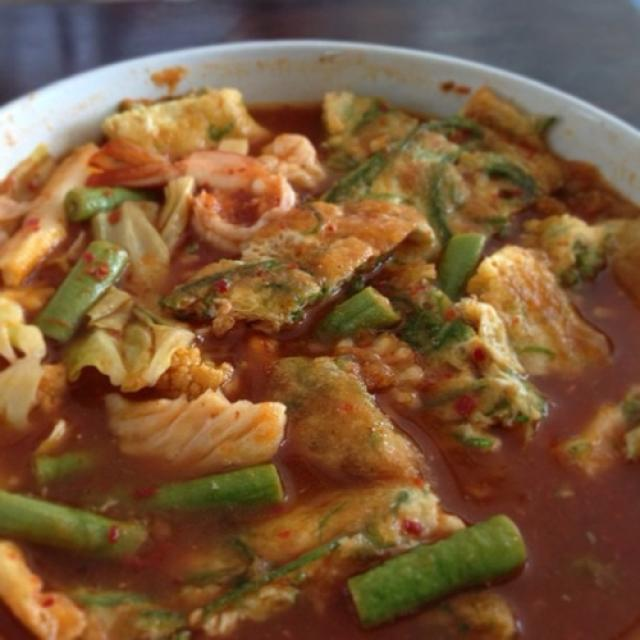汤锅炖物: (4, 52, 627, 626)
